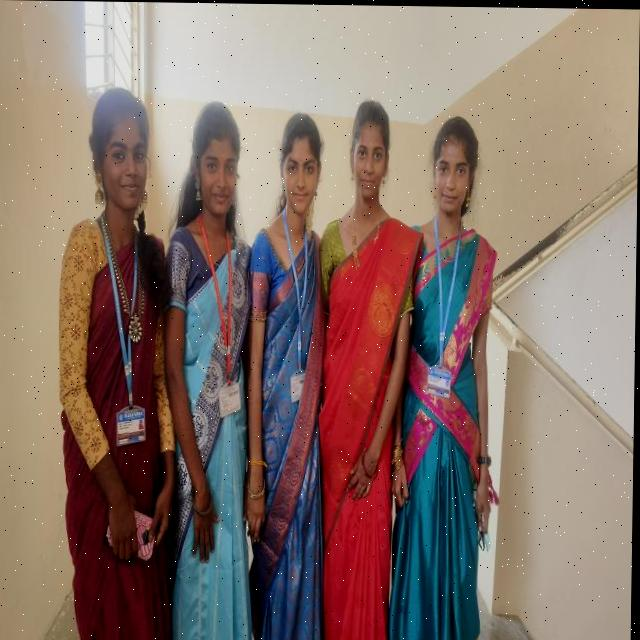id_card: (92, 222, 157, 452), (198, 228, 248, 422), (276, 222, 320, 401), (428, 228, 466, 404)
